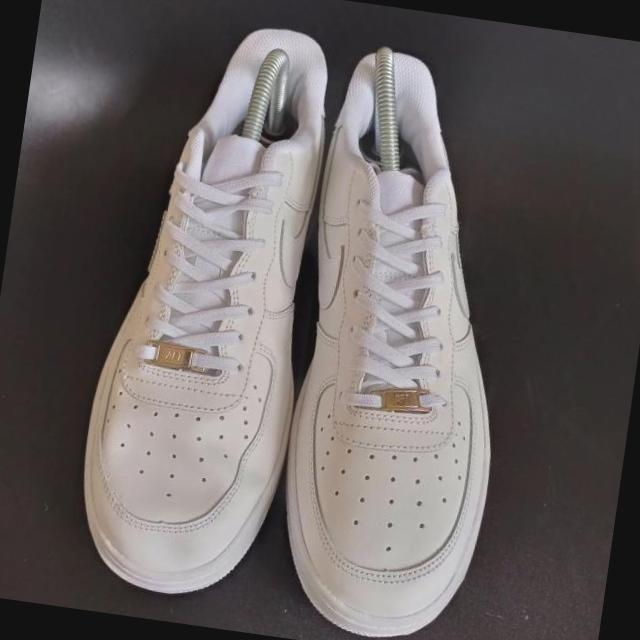nike_fake_airforce: (255, 30, 548, 640), (64, 10, 348, 615)
